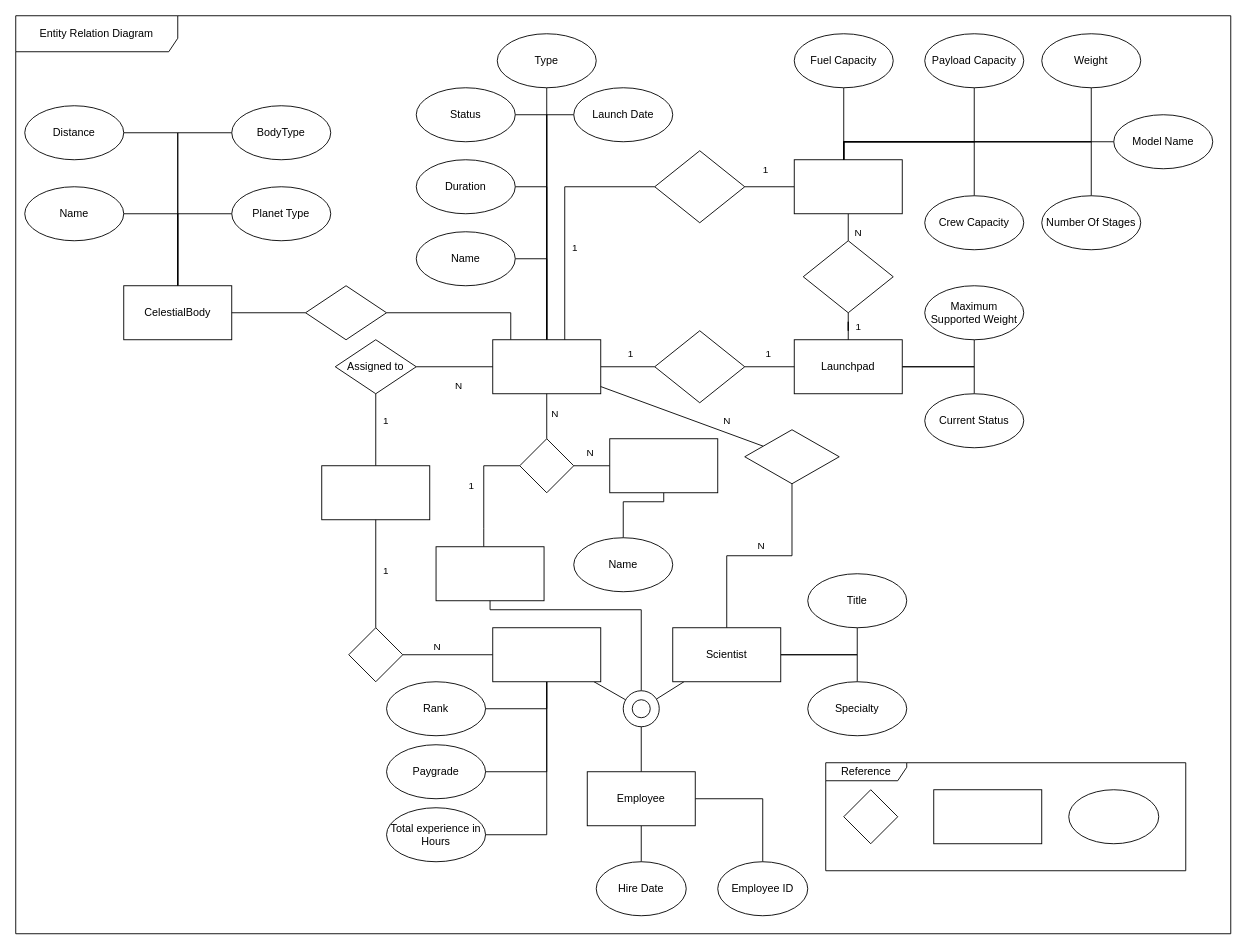
Image size: 1247x950. Some labels were removed from this diagram. Here are the shapes that lost their labels. From the top down, the centre of each, then its label:
point 699,186: Assigned
point 847,186: Rocket
point 847,276: Number of launches
point 346,312: Orbits or lands
point 546,366: Mission
point 699,366: launches from
point 546,465: Has
point 663,465: Department
point 791,456: Participates in
point 375,492: Crew
point 489,573: Manager
point 375,654: Part of
point 546,654: Astronaut
point 870,816: Action
point 987,816: Entity
point 1113,816: Attribute
